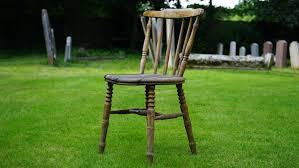chair: (97, 8, 207, 159)
